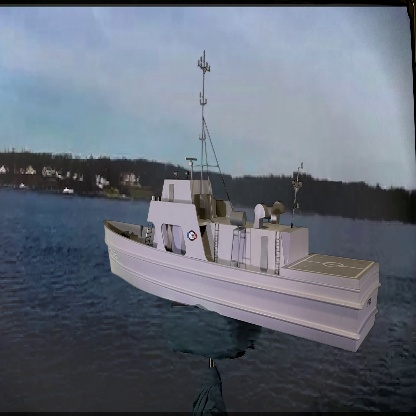YP689: (98, 50, 378, 349)
